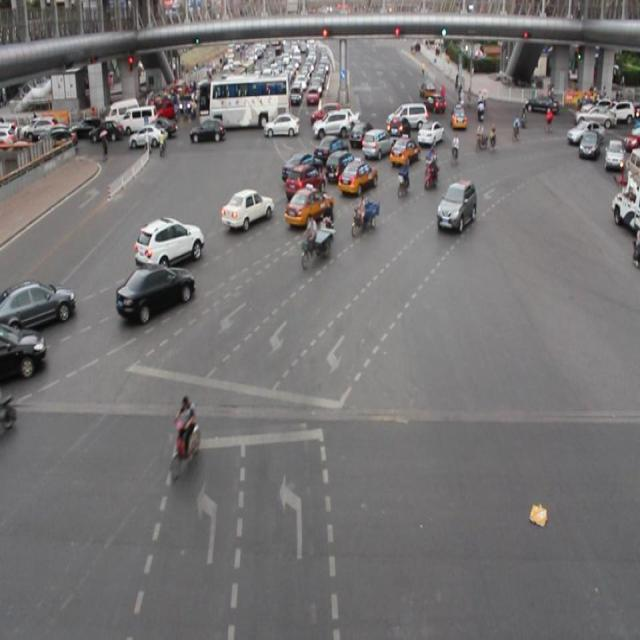BigCar: (200, 72, 290, 122)
car: (117, 266, 196, 318), (0, 278, 74, 330), (136, 214, 204, 267), (438, 177, 478, 239), (219, 186, 271, 232), (287, 187, 331, 226), (340, 154, 378, 192), (525, 85, 562, 120), (312, 109, 354, 138), (133, 120, 167, 152), (188, 116, 226, 142), (391, 133, 418, 169), (420, 115, 445, 148), (264, 114, 297, 137), (421, 82, 446, 112), (604, 136, 624, 171), (578, 130, 598, 158), (452, 104, 469, 132), (294, 69, 295, 79)
